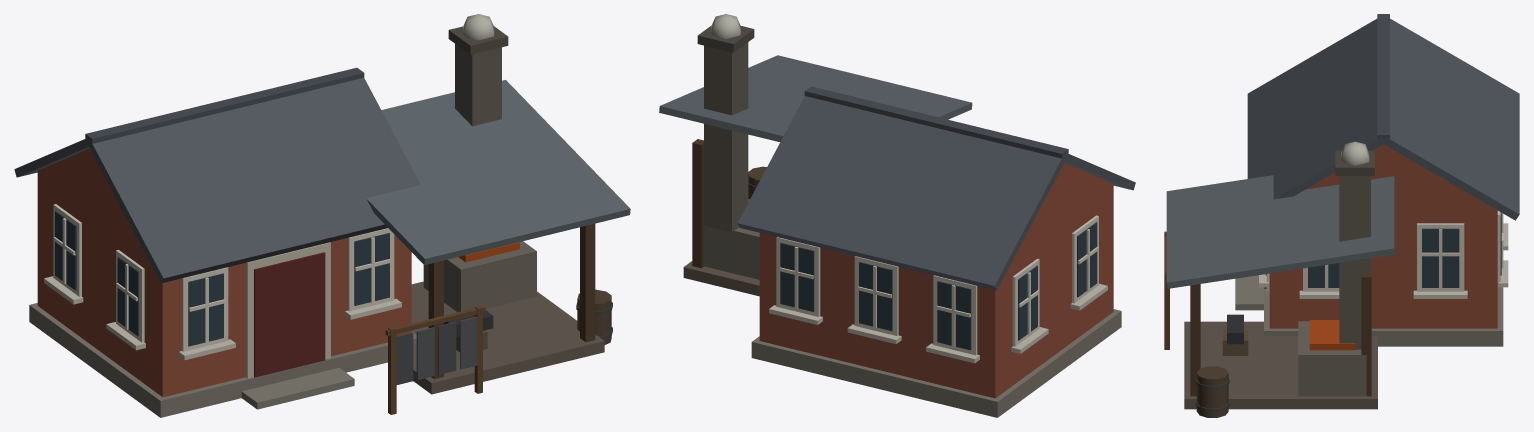
File: procedural_armor_workshop@5.glb
The picture shows the model from 3 angles, left to right: view 1: azimuth 30°, elevation 25°; view 2: azimuth 150°, elevation 25°; view 3: azimuth 270°, elevation 25°; orthographic projection. The views are drawn at different scales.
Visible parts, largest first — view 1: part_0, part_4; view 2: part_0, part_4; view 3: part_0, part_4.
Part boxes in pixels (<box>): part_0: <box>14,26,630,417</box>; part_4: <box>463,14,494,40</box>; part_0: <box>659,25,1135,417</box>; part_4: <box>711,14,740,38</box>; part_0: <box>1164,14,1519,417</box>; part_4: <box>1341,141,1369,165</box>.
Size of the model in its own units: 7.9 by 4.89 by 6.24.
